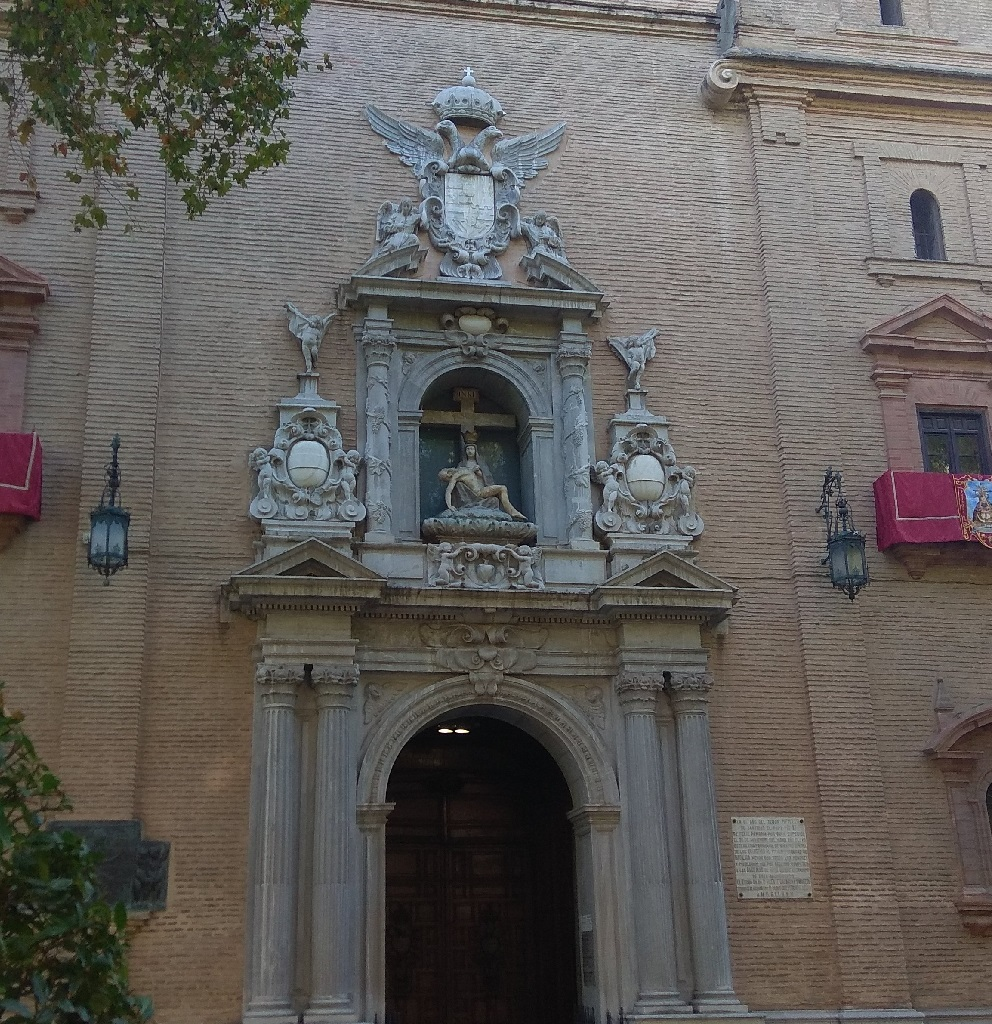arco-medio-punto: (381, 698, 600, 856), (409, 360, 542, 449)
fronton: (227, 535, 388, 595), (597, 550, 746, 605), (861, 293, 992, 351)
fronton-partido: (345, 244, 608, 318)
